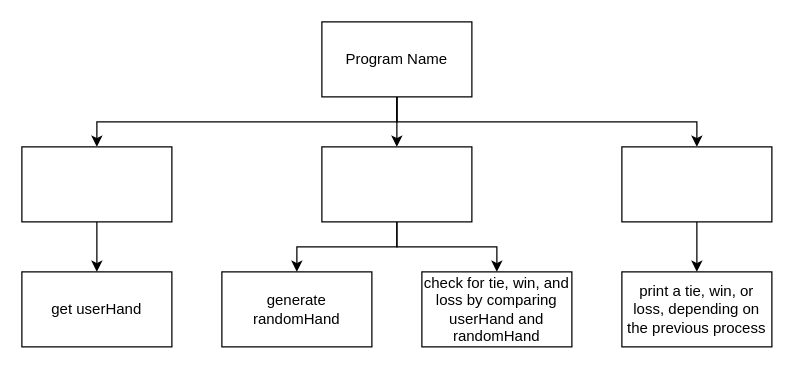
This 794x369 diagram has some shape labels left out. Here are the shapes that lost their labels. From the top down, the centre of each, then its label:
point (96, 184): Input
point (396, 184): Process
point (696, 184): Output
